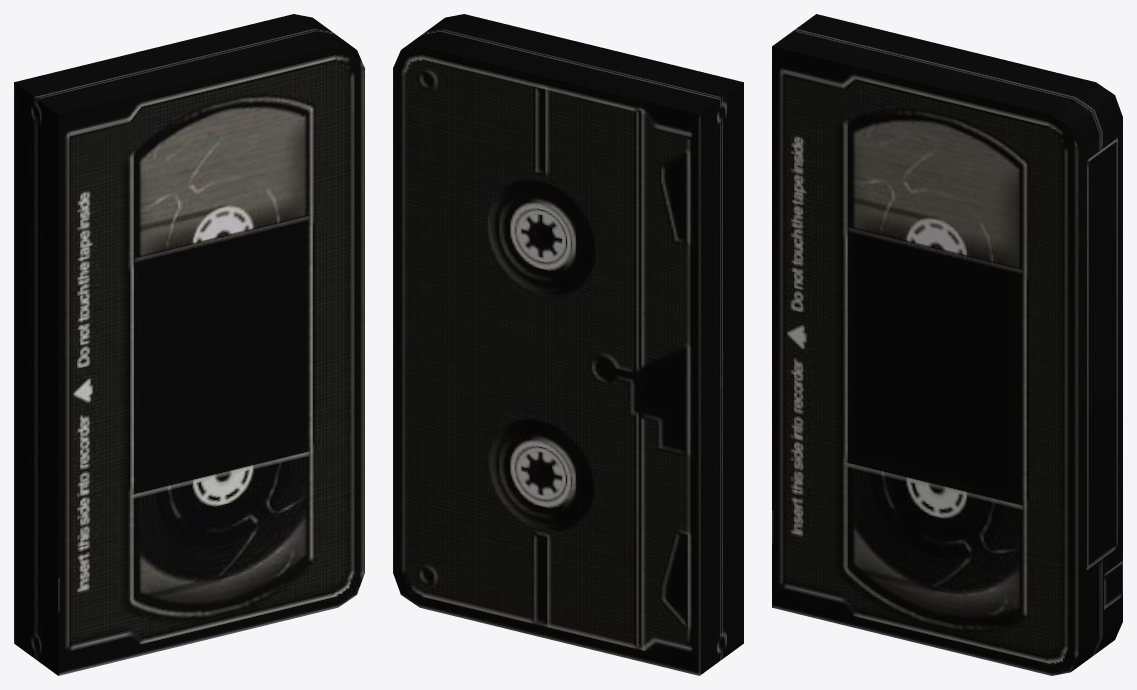
The model's file is vhsTape_080521.dae.
3 renders of one model, left to right at view 1: azimuth 30°, elevation 25°; view 2: azimuth 150°, elevation 25°; view 3: azimuth 330°, elevation 25°, orthographic.
Visible parts, largest first — view 1: pCube1; view 2: pCube1; view 3: pCube1.
Part boxes in pixels (x1,y1,x2,y2): pCube1: [14, 14, 364, 675]; pCube1: [393, 14, 743, 675]; pCube1: [772, 14, 1122, 675].
Size of the model in its own units: 2 by 3.5 by 0.5.
